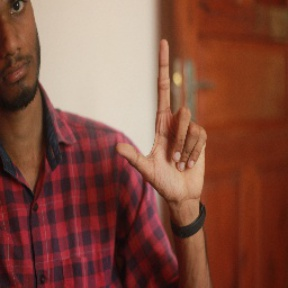L: (112, 37, 212, 201)
